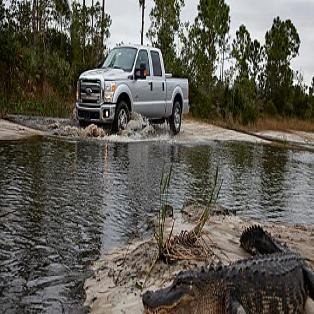Auto: (75, 46, 190, 138)
